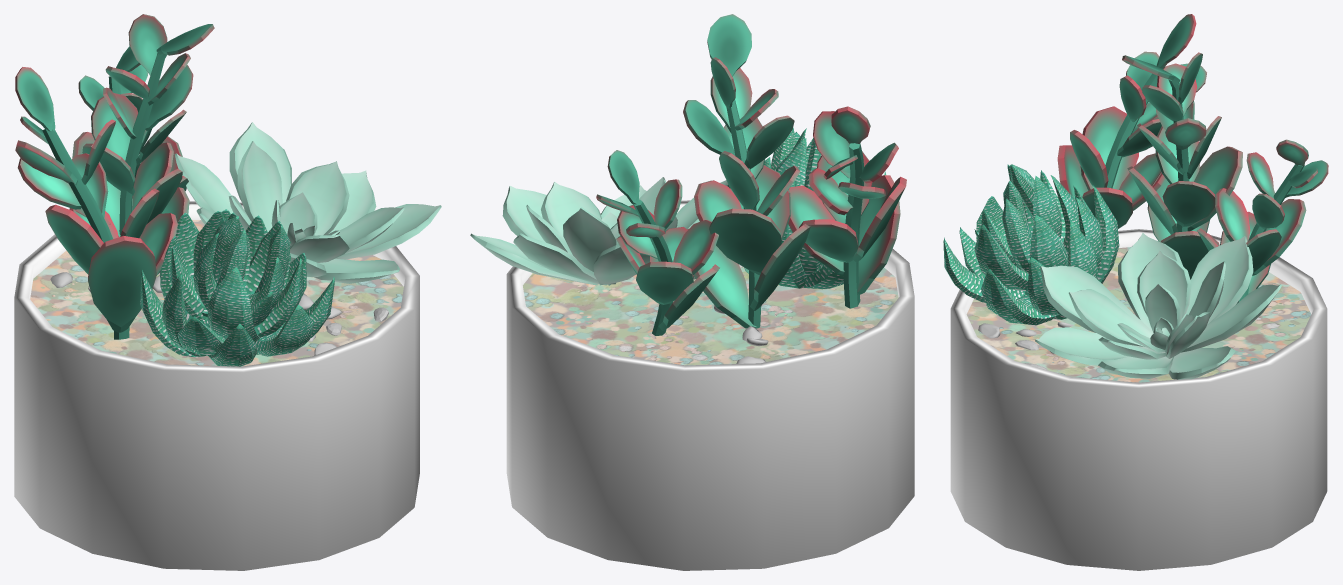
The model's file is succulent.fbx.
The picture shows the model from 3 angles, left to right: view 1: azimuth 30°, elevation 25°; view 2: azimuth 150°, elevation 25°; view 3: azimuth 270°, elevation 25°; orthographic projection. The views are drawn at different scales.
Visible parts, largest first — view 1: pCylinder94, polySurface114, polySurface116, polySurface115, pCylinder91, pCylinder90; view 2: pCylinder94, pCylinder91, polySurface115, polySurface116, pCylinder90, polySurface114; view 3: pCylinder94, polySurface116, polySurface114, pCylinder91, polySurface115, pCylinder90.
Part boxes in pixels (x1,y1,x2,y2): pCylinder94: (14, 201, 419, 570); polySurface114: (140, 209, 334, 366); polySurface116: (174, 122, 441, 283); polySurface115: (15, 67, 177, 339); pCylinder91: (72, 14, 214, 273); pCylinder90: (78, 46, 188, 205); pCylinder94: (506, 200, 914, 570); pCylinder91: (683, 14, 810, 328); polySurface115: (788, 106, 906, 308); polySurface116: (470, 177, 727, 285); pCylinder90: (596, 150, 719, 335); polySurface114: (727, 127, 885, 289); pCylinder94: (950, 229, 1327, 570); polySurface116: (1035, 233, 1281, 379); polySurface114: (943, 164, 1119, 325); pCylinder91: (1122, 52, 1242, 279); polySurface115: (1057, 14, 1206, 228); pCylinder90: (1197, 139, 1328, 304).
Size of the model in its own units: 8.22 by 9.06 by 7.36.
